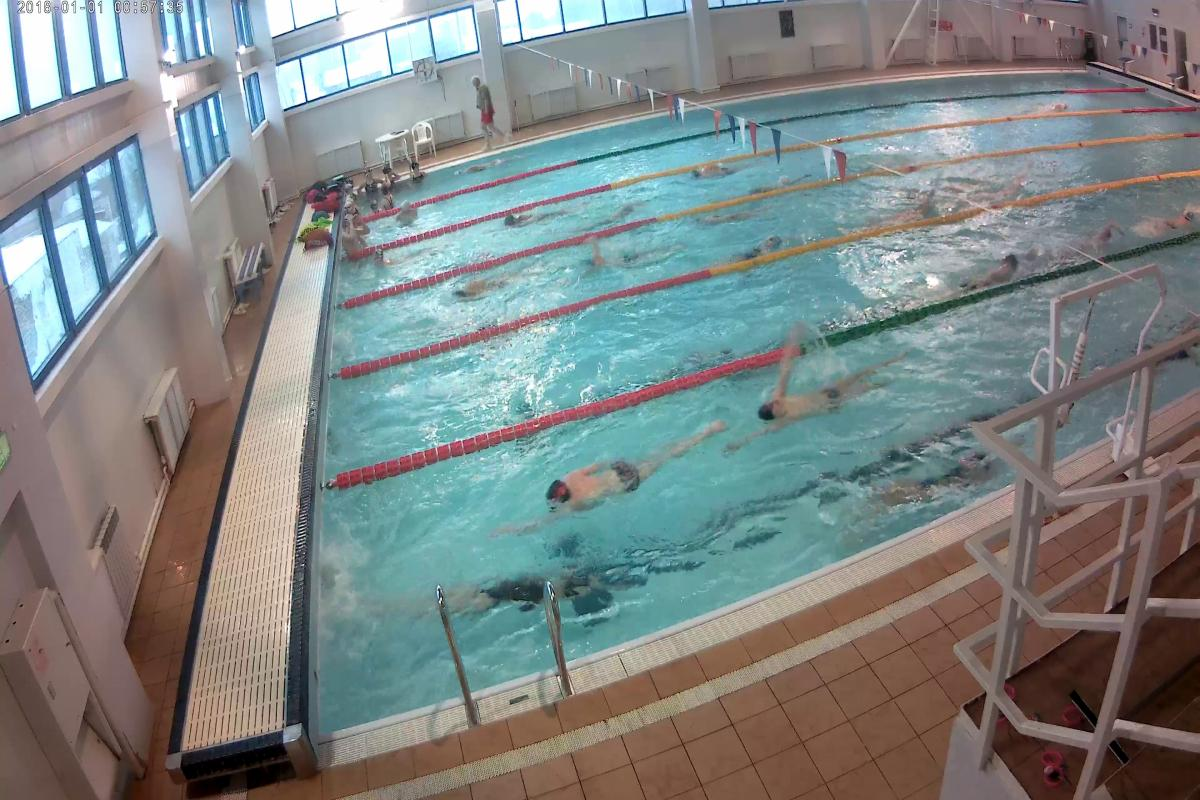swimmer: (525, 431, 709, 519), (742, 366, 874, 442), (944, 248, 1022, 304), (444, 274, 515, 310), (494, 207, 564, 241), (1147, 200, 1196, 234), (371, 246, 426, 276), (734, 232, 789, 258), (683, 160, 739, 183)
